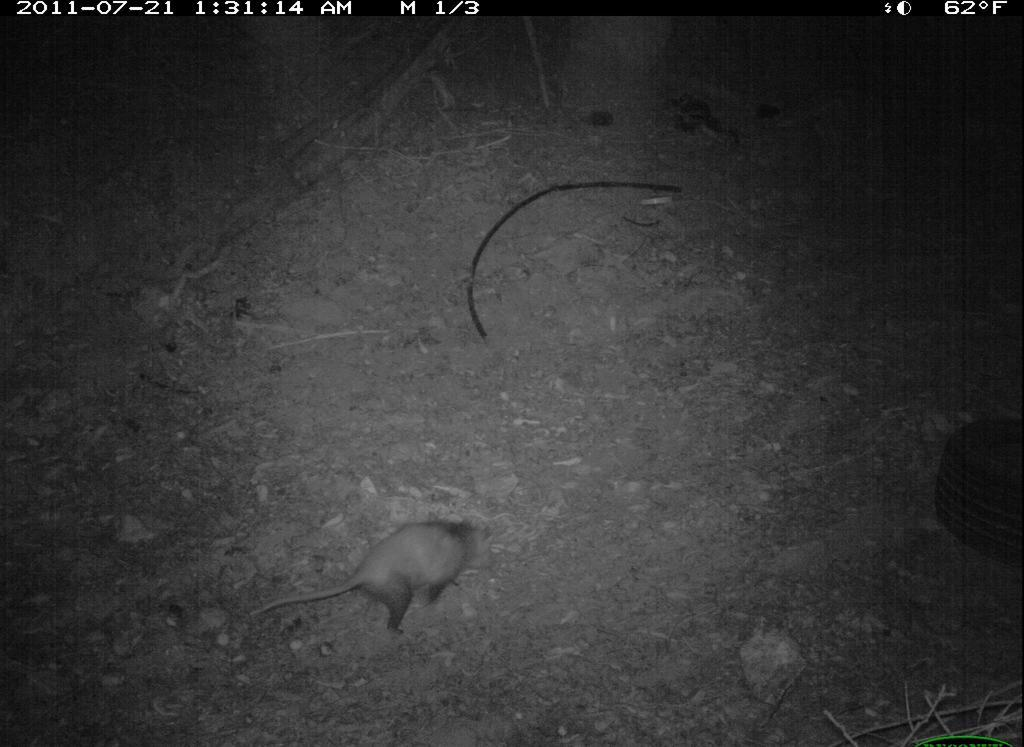opossum: (219, 506, 521, 653)
